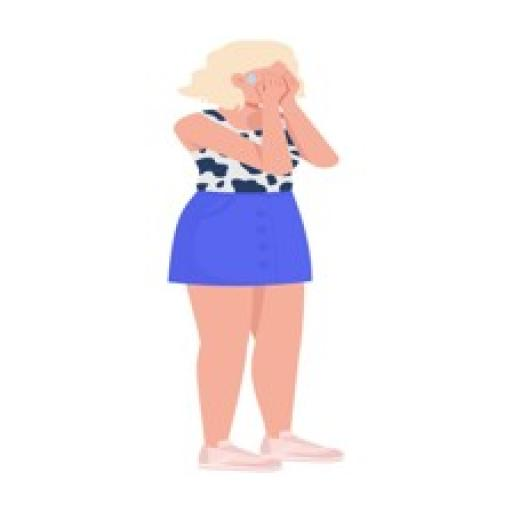human: (161, 31, 354, 477)
